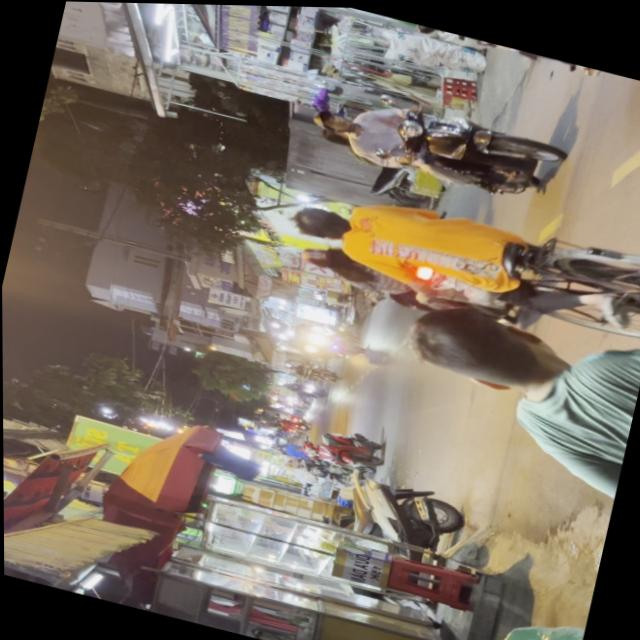helmet: (309, 103, 354, 133)
licenseplate: (302, 74, 569, 208), (298, 5, 640, 91)
